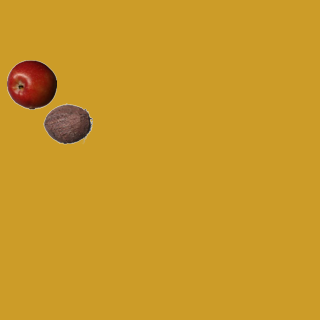Apple Braeburn: (6, 59, 56, 109)
Cocos: (42, 98, 92, 148)
